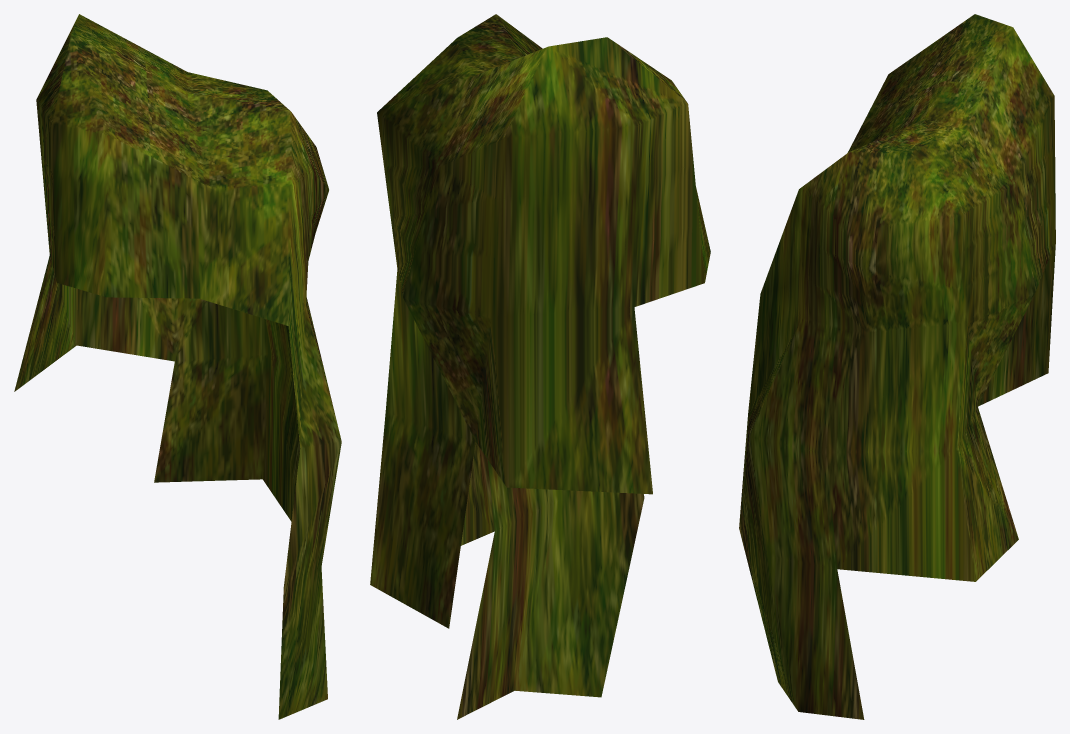
File: TROLLHOLE02_RM_PSURF106.fbx
3 renders of one model, left to right at view 1: azimuth 30°, elevation 25°; view 2: azimuth 150°, elevation 25°; view 3: azimuth 270°, elevation 25°, orthographic. The views are drawn at different scales.
Visible parts, largest first — view 1: TROLLHOLE02_RM_PSURF106; view 2: TROLLHOLE02_RM_PSURF106; view 3: TROLLHOLE02_RM_PSURF106.
Part boxes in pixels (x1,y1,x2,y2): TROLLHOLE02_RM_PSURF106: (14, 14, 341, 719); TROLLHOLE02_RM_PSURF106: (370, 14, 710, 719); TROLLHOLE02_RM_PSURF106: (739, 14, 1055, 719).
Size of the model in its own units: 44289 by 108287 by 50070.
Materials: 1 (1 with a texture image).
